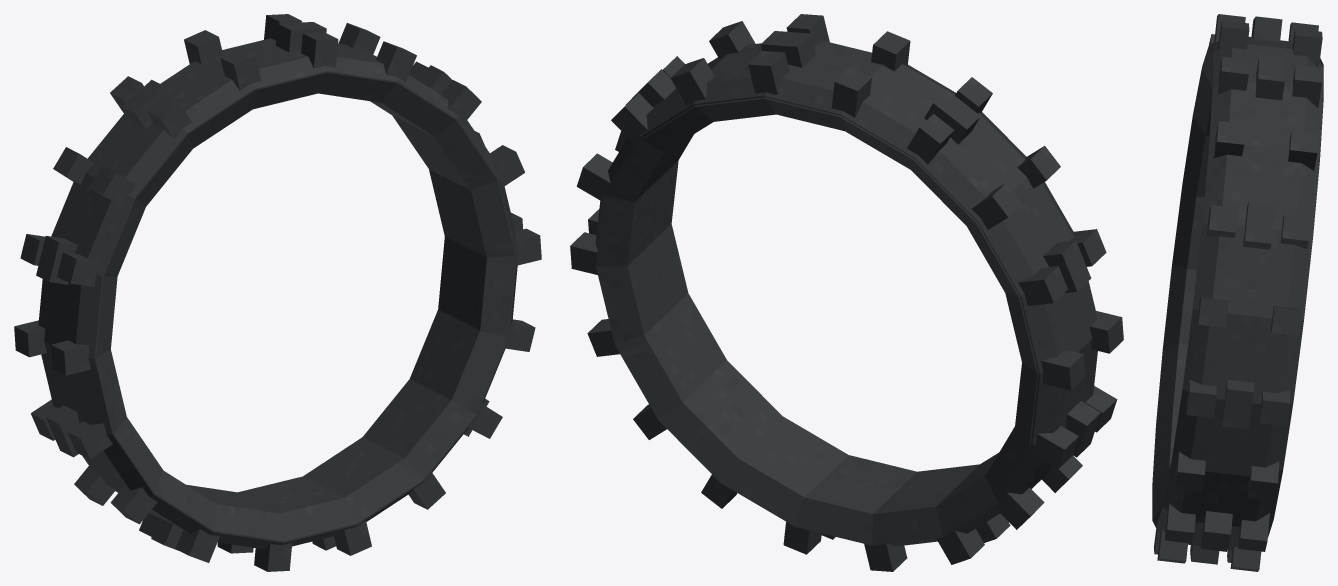
File: tire_bicycle_or.glb
3 renders of one model, left to right at view 1: azimuth 30°, elevation 25°; view 2: azimuth 150°, elevation 25°; view 3: azimuth 270°, elevation 25°, orthographic. The views are drawn at different scales.
Parts seen in each view (by area): view 1: block_wheel cross section, block_raised off-road stud (×22), block_center block (×4); view 2: block_wheel cross section, block_raised off-road stud (×25), block_center block (×5); view 3: block_wheel cross section, block_raised off-road stud (×20), block_center block (×6).
Part boxes in pixels (<box>): block_wheel cross section: <box>38,38,517,548</box>; block_raised off-road stud (×22): <box>14,23,541,571</box>; block_center block (×4): <box>36,22,326,457</box>; block_wheel cross section: <box>595,40,1097,546</box>; block_raised off-road stud (×25): <box>570,14,1123,571</box>; block_center block (×5): <box>626,31,1100,457</box>; block_wheel cross section: <box>1152,36,1323,549</box>; block_raised off-road stud (×20): <box>1157,14,1322,571</box>; block_center block (×6): <box>1190,16,1285,564</box>.
Size of the model in its own units: 0.6819 by 0.686 by 0.2119.
Materials: 1 (1 with a texture image).
